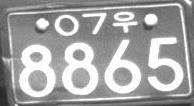0: (53, 14, 79, 37)
5: (147, 36, 184, 92)
6: (103, 39, 141, 94)
7: (81, 11, 107, 35)
8: (62, 40, 99, 96), (18, 44, 56, 97)
우: (112, 10, 138, 34)
